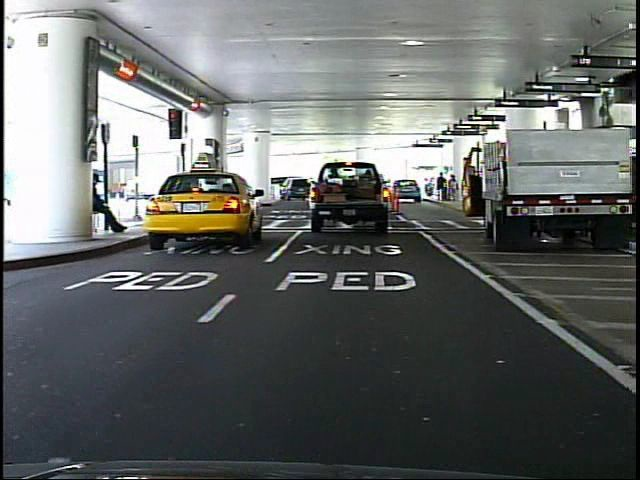person: (92, 170, 129, 238), (172, 167, 193, 218)
